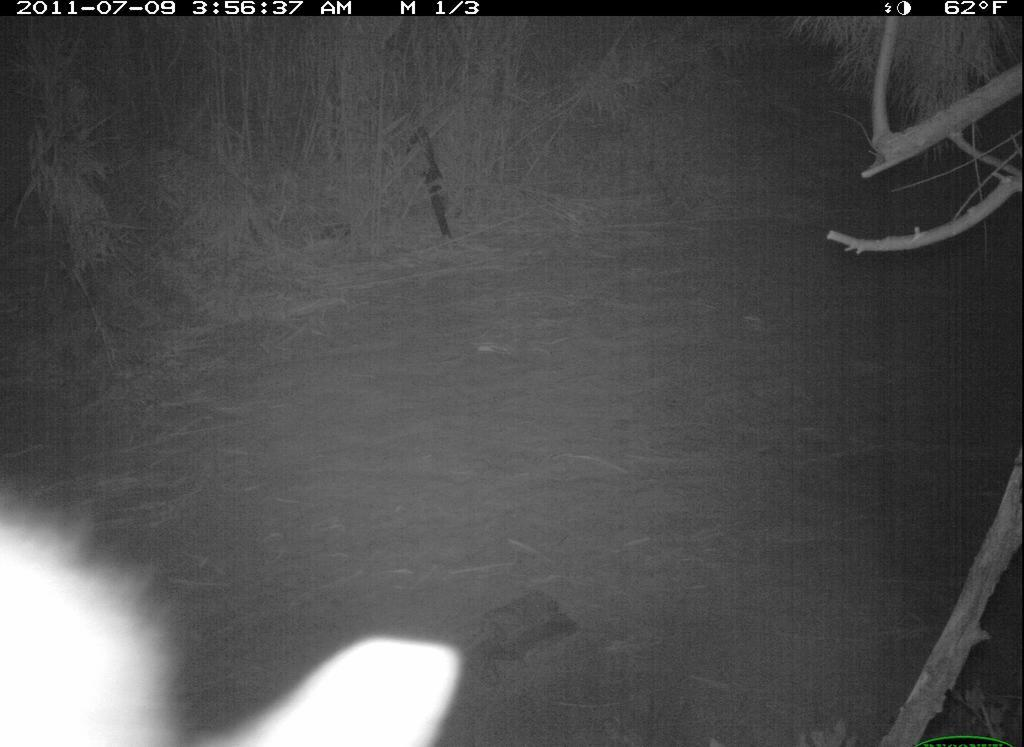raccoon: (1, 472, 470, 747)
